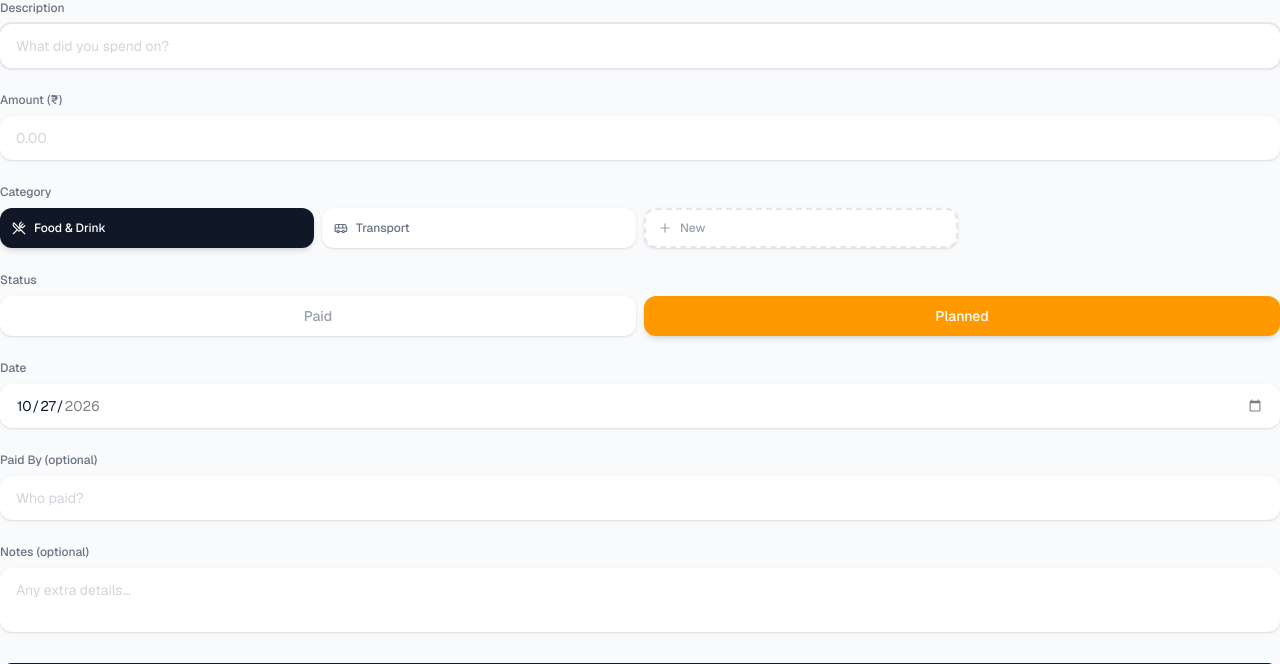
ExpenseForm › shows validation error on blur for short description
Type "a" into the field with placeholder "What did you spend on?" at point(640, 46), box [0,24,1279,68]
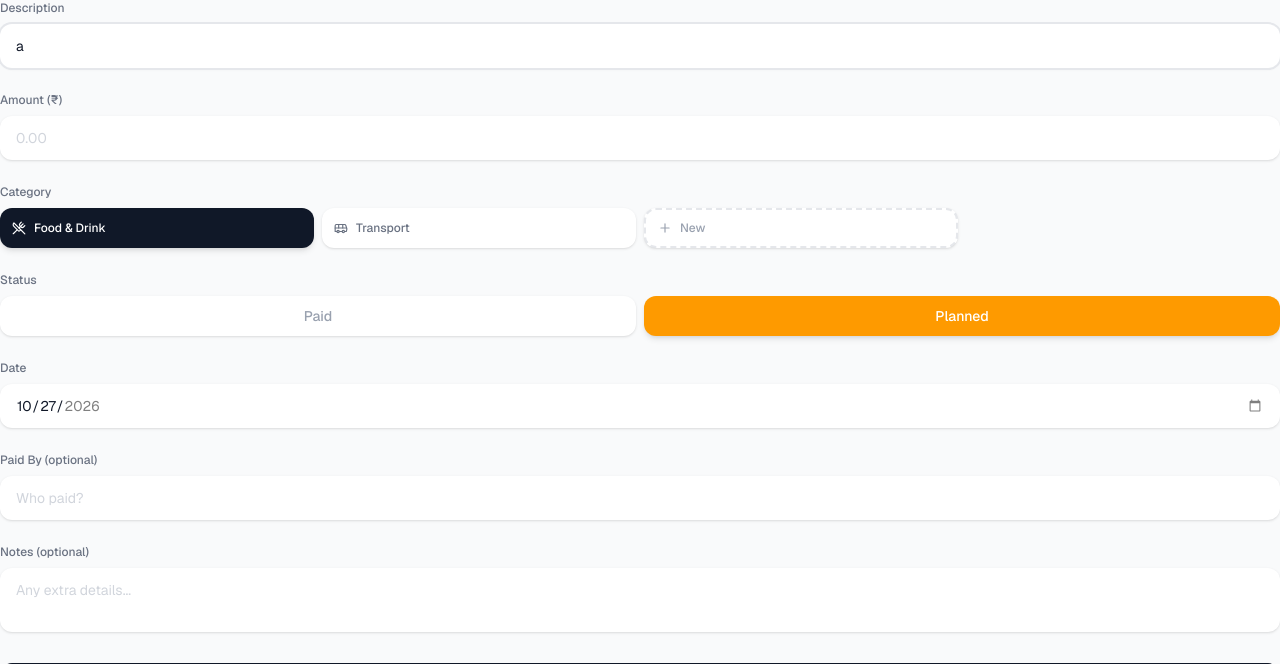
Press Tab
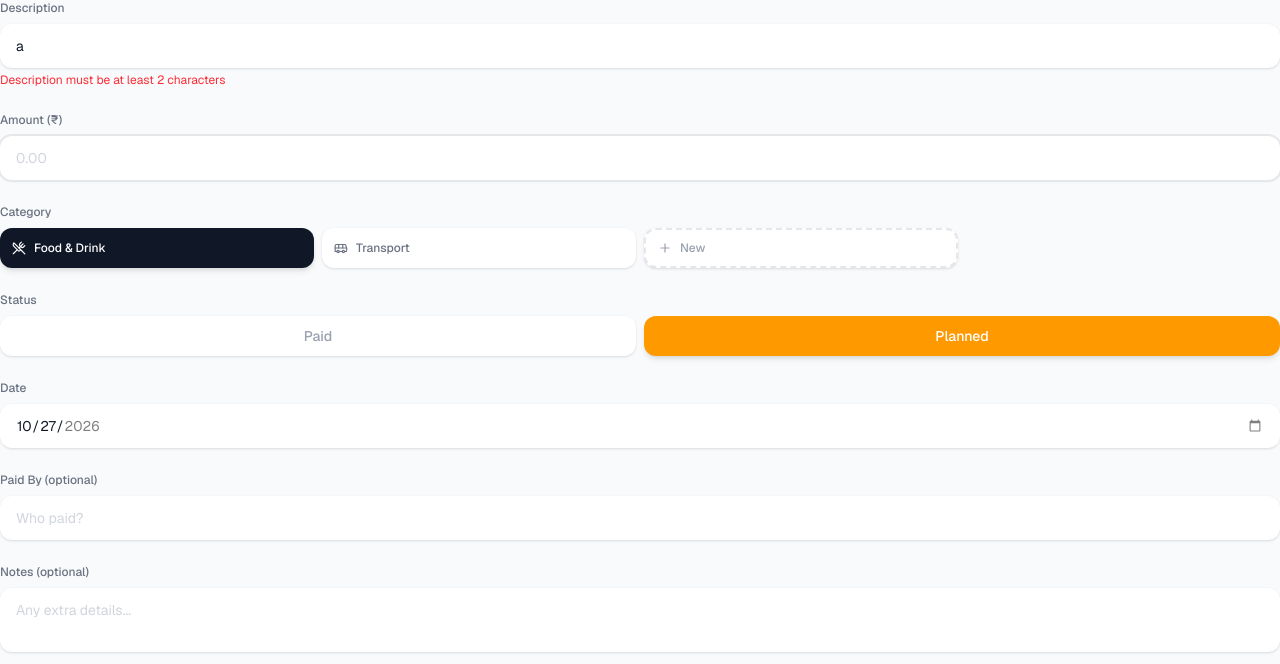
Expected: the text "Description must be at least 2 characters" is shown, [0,72,225,88]
